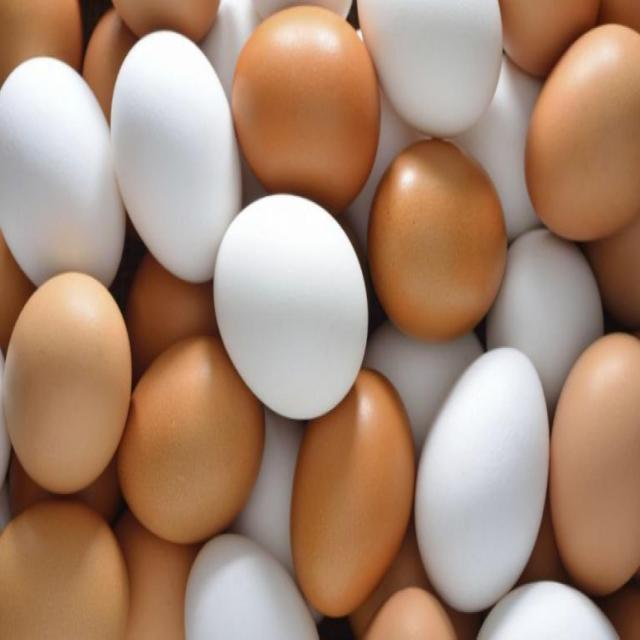huevos: (206, 188, 372, 431)
